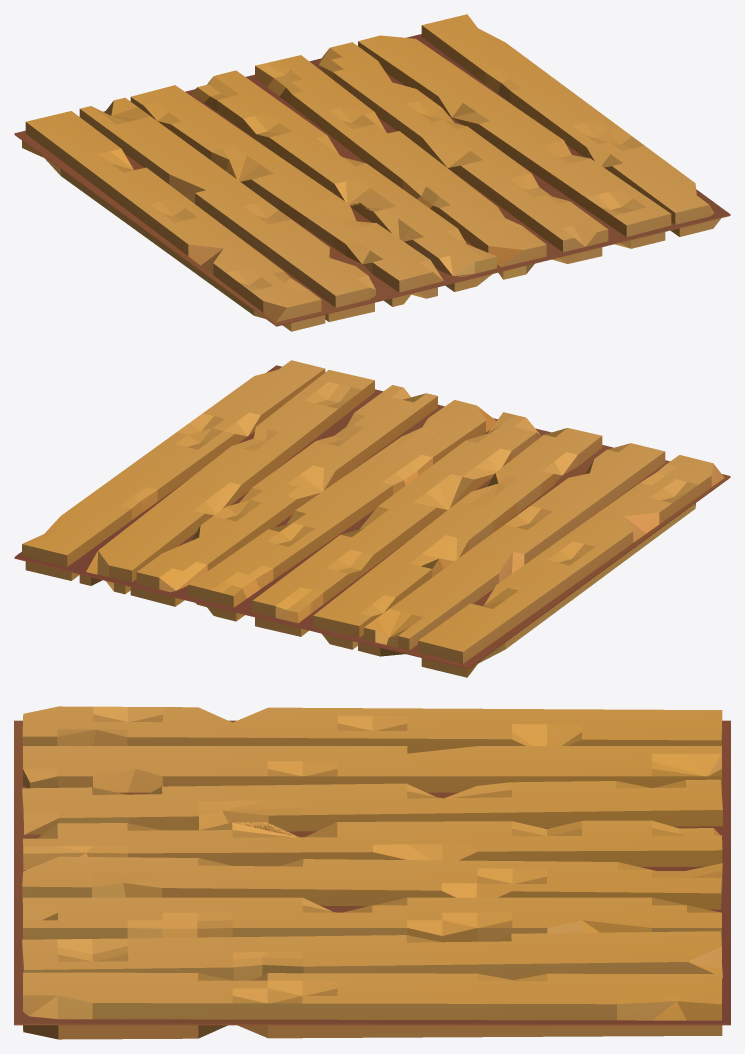
Rendered from planks_tile_3.fbx.
3 views of the same model, one above another, from view 1: azimuth 30°, elevation 25°; view 2: azimuth 150°, elevation 25°; view 3: azimuth 270°, elevation 25° (orthographic). The views are drawn at different scales.
Parts seen in each view (by area): view 1: Plane.015; view 2: Plane.015; view 3: Plane.015.
Boxes of the visible parts, x1,y1,x2,y2 form: Plane.015: (14, 14, 730, 331); Plane.015: (14, 360, 730, 677); Plane.015: (14, 706, 730, 1039).
Bounding box in the file's own units: 400 × 26.27 × 400.
